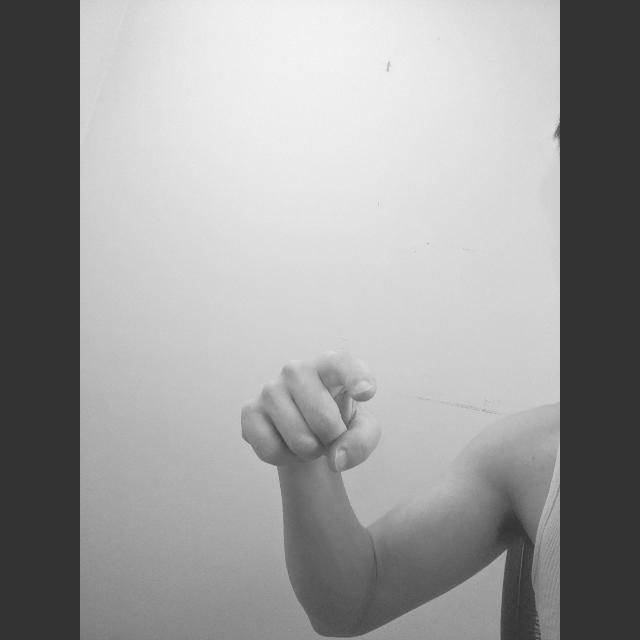Z: (238, 347, 386, 478)
